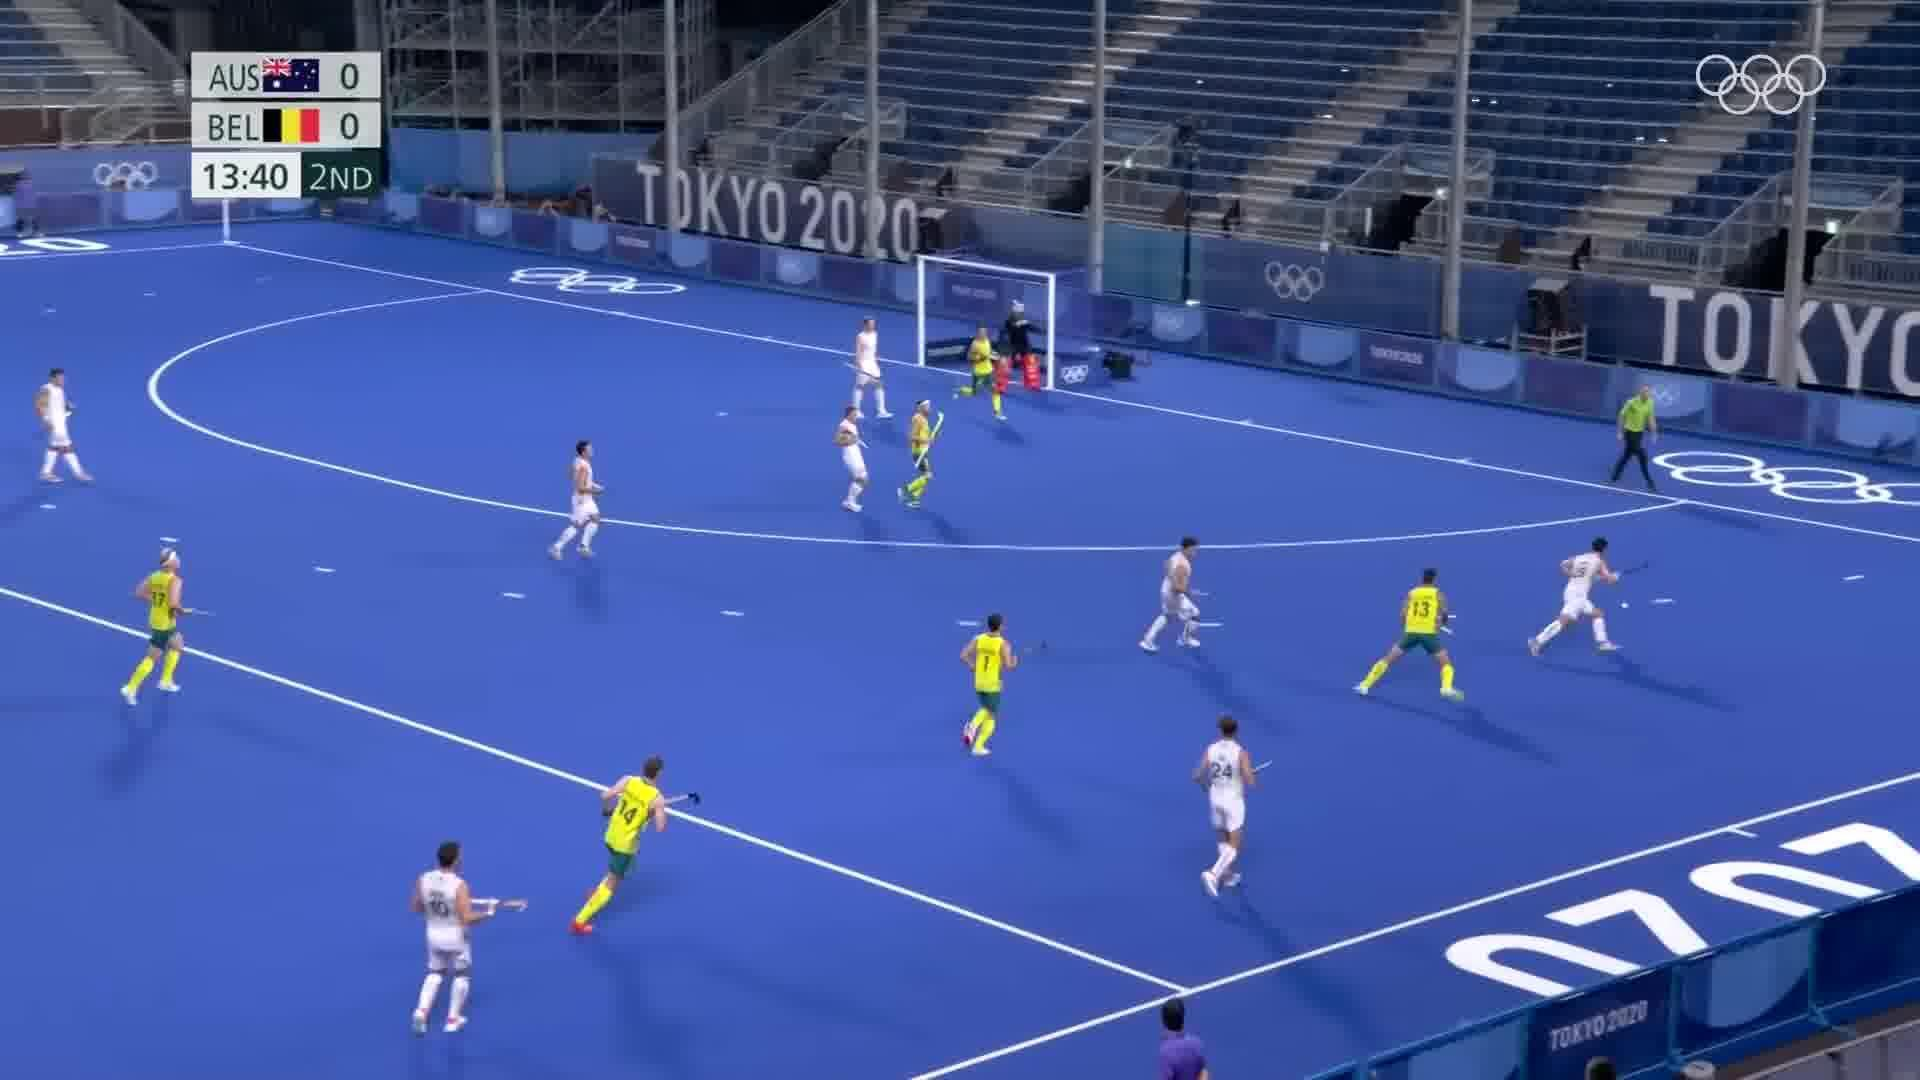ball: (1617, 593, 1636, 616)
